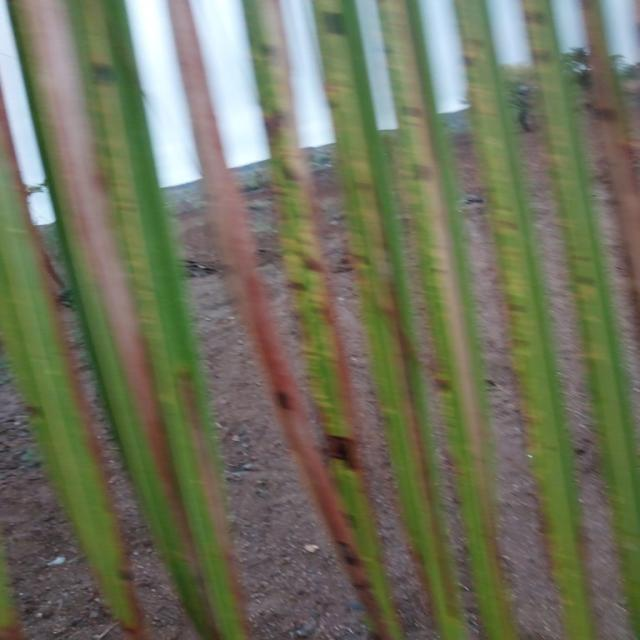gray leaf spot: (9, 0, 247, 639), (169, 0, 402, 640), (313, 0, 518, 640), (457, 0, 595, 639), (2, 141, 143, 639), (526, 0, 638, 619)
